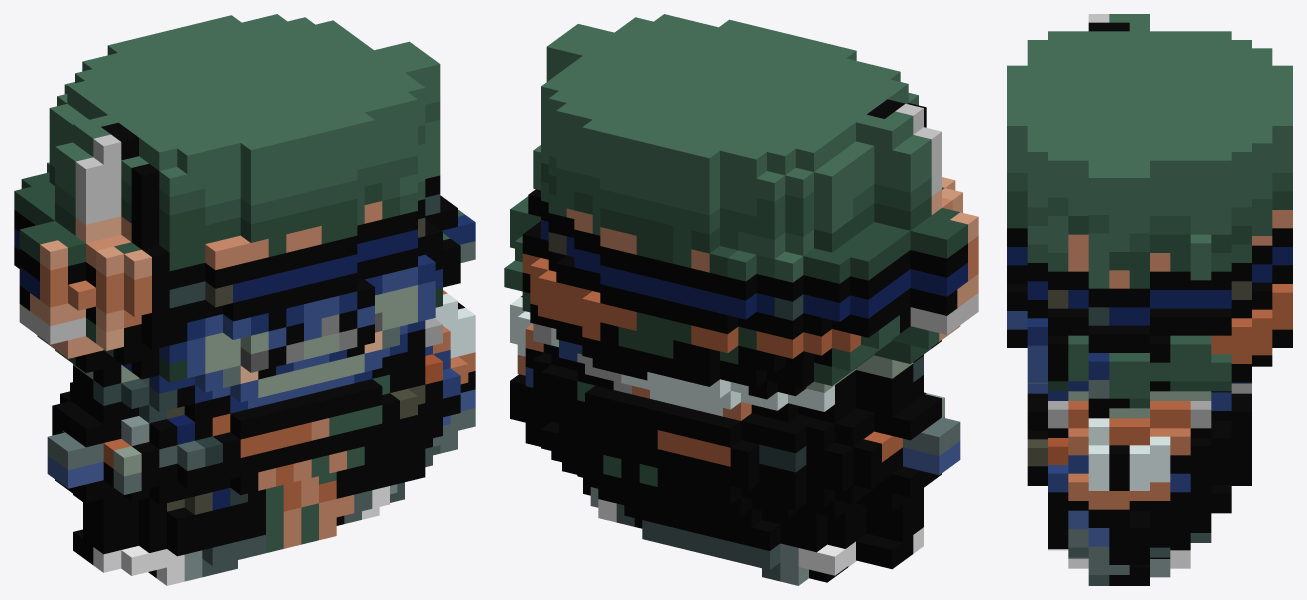
File: Icon_003_03.obj
The picture shows the model from 3 angles, left to right: view 1: azimuth 30°, elevation 25°; view 2: azimuth 150°, elevation 25°; view 3: azimuth 270°, elevation 25°; orthographic projection. The views are drawn at different scales.
Size of the model in its own units: 2.4 by 2.4 by 1.4.
1 material, 1 textured.
